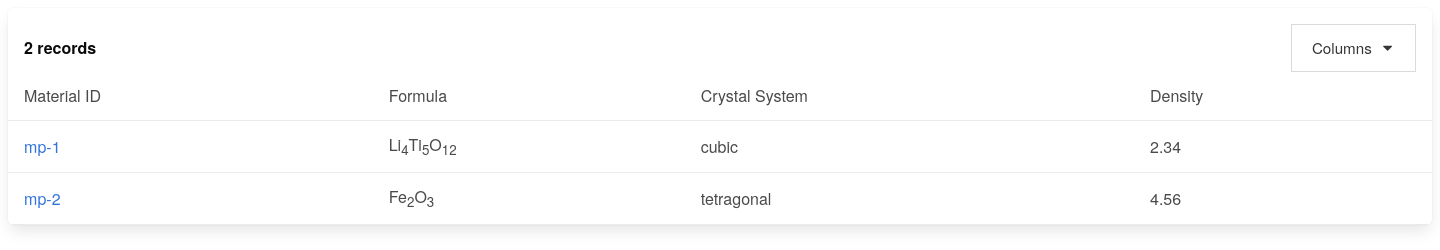
Test: DataTable › closes the columns menu when clicking outside
Click the button "Columns": [1353, 48] box [1291,24,1416,72]
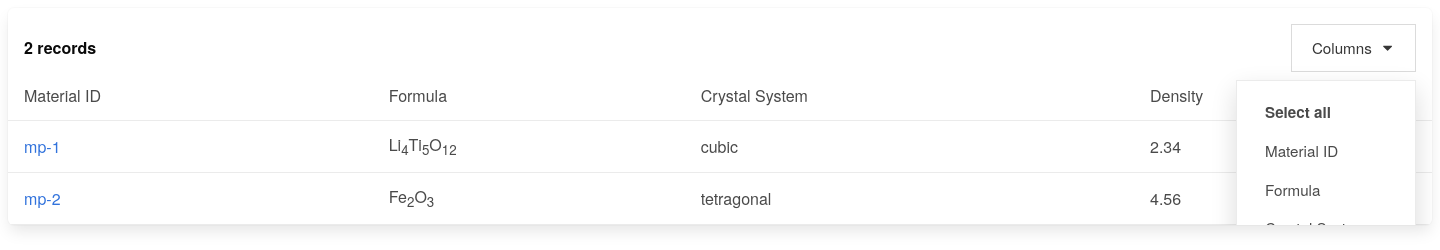
Now the text "Select all" is shown, box [1265,101,1331,124]
Press the mouse on the element that starts with "records": [720, 117] box [8,8,1432,225]
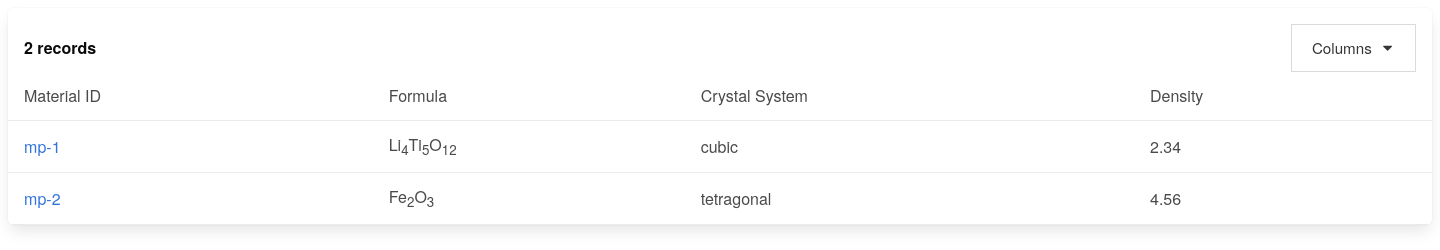
Now the text "Select all" is gone
